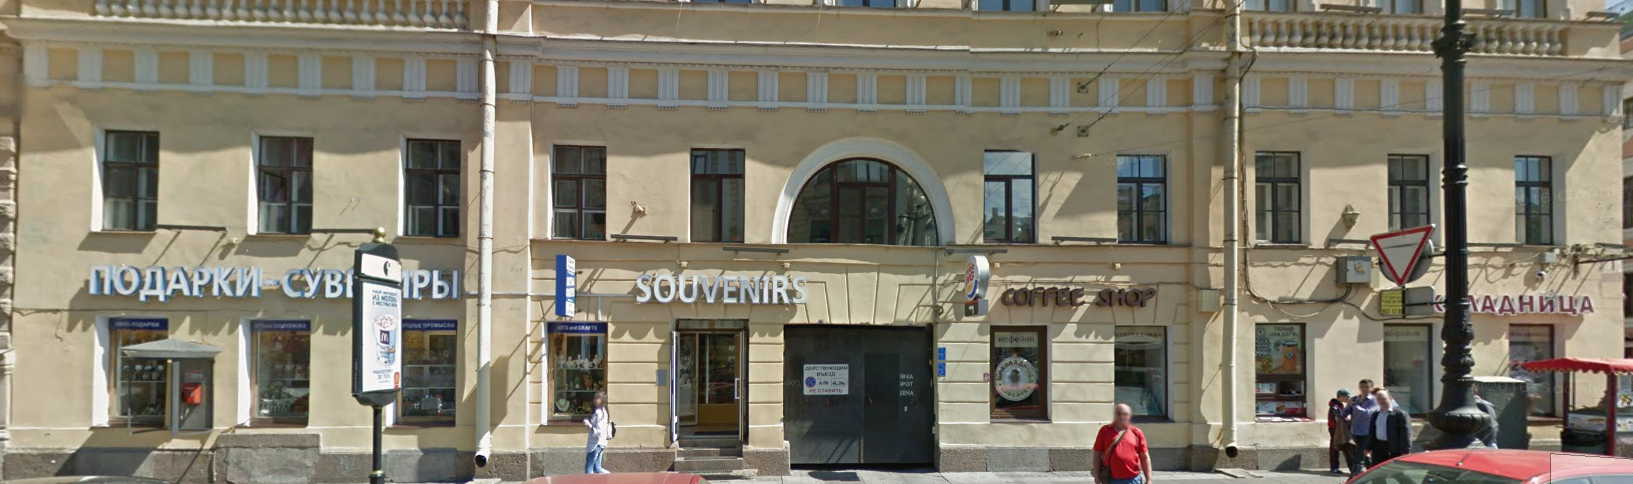cantilever: (546, 251, 594, 321), (953, 246, 989, 324)
door: (676, 325, 749, 445)
signboard: (83, 268, 454, 299), (637, 269, 808, 304), (1001, 282, 1156, 311), (1468, 292, 1596, 319)
window: (780, 164, 949, 241), (248, 326, 308, 427), (253, 143, 318, 236), (101, 132, 158, 237), (546, 328, 605, 423), (406, 143, 462, 240), (983, 151, 1038, 249), (402, 326, 455, 426), (690, 146, 745, 240), (989, 328, 1045, 421), (1251, 152, 1303, 249), (1257, 326, 1311, 417), (1115, 154, 1173, 240), (1385, 154, 1437, 244), (1116, 329, 1169, 414), (557, 145, 603, 236), (1512, 158, 1557, 246)
